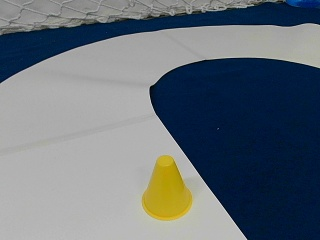cone: (142, 157, 192, 218)
